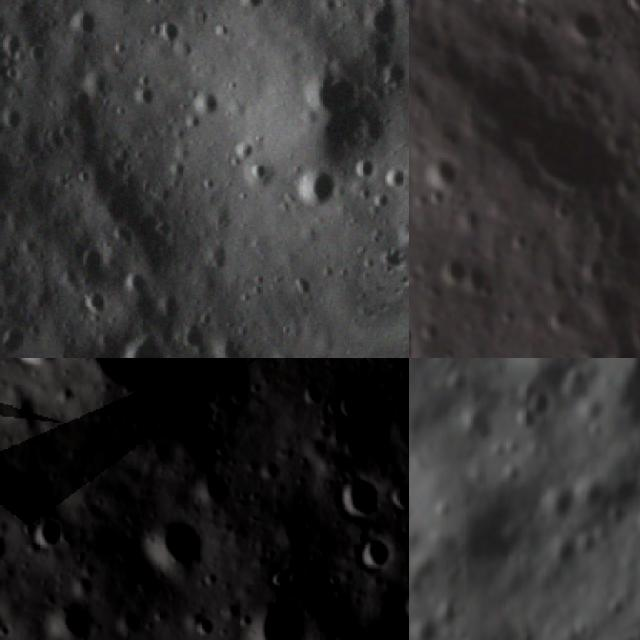crater: (479, 60, 640, 212), (57, 358, 272, 453), (279, 43, 409, 175), (128, 511, 208, 576), (236, 587, 323, 640), (287, 157, 352, 222), (322, 473, 391, 528), (592, 358, 640, 435), (111, 319, 194, 358), (560, 0, 617, 56), (17, 505, 72, 562), (512, 383, 566, 438), (138, 4, 191, 60), (38, 590, 95, 640), (181, 79, 234, 131), (349, 528, 398, 584), (349, 0, 409, 45), (57, 0, 109, 49), (427, 240, 470, 294), (70, 233, 117, 280), (76, 278, 123, 324), (416, 153, 462, 200), (193, 471, 240, 516), (0, 358, 73, 381), (0, 12, 24, 75), (576, 247, 612, 289), (382, 475, 409, 522), (409, 613, 448, 640), (542, 304, 572, 337), (240, 0, 281, 23), (0, 250, 14, 294), (0, 291, 16, 328), (463, 0, 506, 12), (0, 435, 11, 479), (513, 0, 546, 11)
